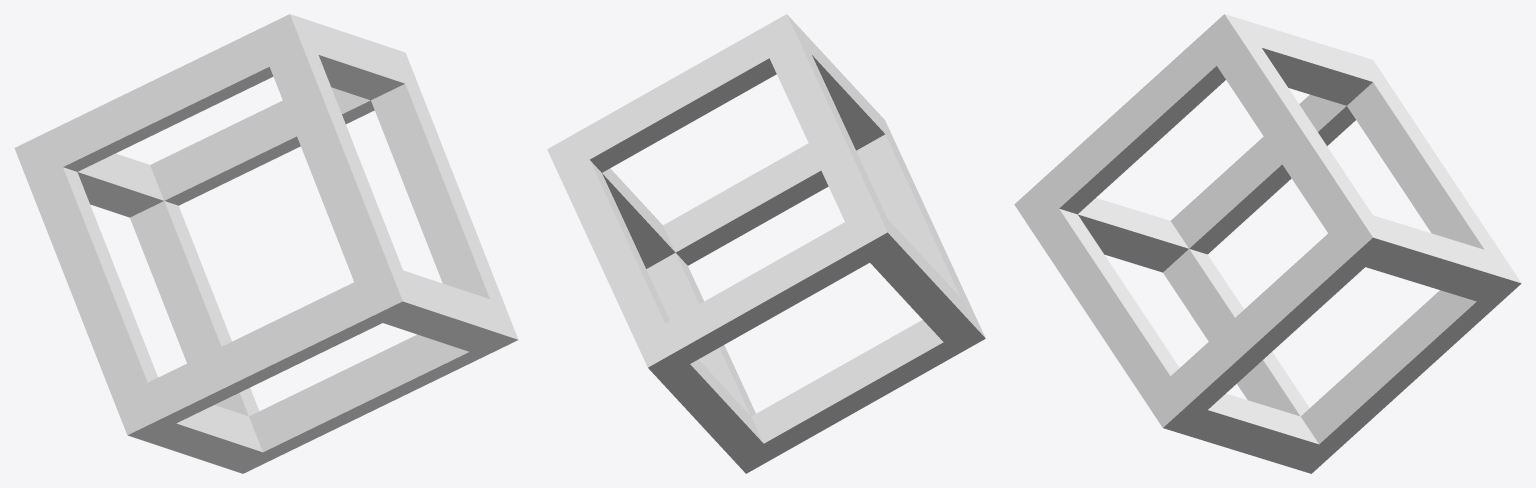
3 renders of one model, left to right at view 1: azimuth 30°, elevation 25°; view 2: azimuth 150°, elevation 25°; view 3: azimuth 270°, elevation 25°, orthographic. The views are drawn at different scales.
Visible parts, largest first — view 1: 对象; view 2: 对象; view 3: 对象.
Part boxes in pixels (x1,y1,x2,y2): 对象: [14, 14, 518, 473]; 对象: [547, 14, 985, 473]; 对象: [1014, 14, 1521, 473].
Bounding box in the file's own units: 11.31 × 13.66 × 13.66.
Materials: 1 (1 with a texture image).
